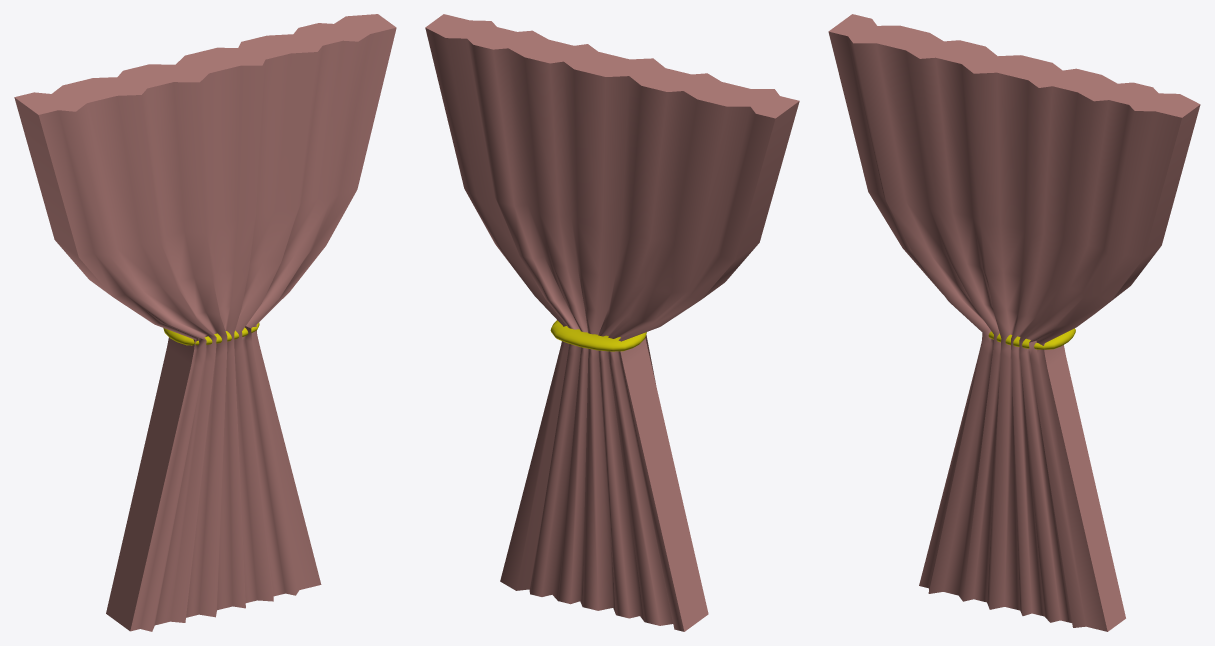
The model's file is curtain.fbx.
3 renders of one model, left to right at view 1: azimuth 30°, elevation 25°; view 2: azimuth 150°, elevation 25°; view 3: azimuth 330°, elevation 25°, orthographic.
Parts seen in each view (by area): view 1: polySurface2, pTorus1; view 2: polySurface2, pTorus1; view 3: polySurface2, pTorus1.
Boxes of the visible parts, box(x1,y1,x2,y2) form: polySurface2: box(14, 14, 396, 631); pTorus1: box(163, 322, 259, 345); polySurface2: box(425, 14, 799, 631); pTorus1: box(550, 320, 646, 351); polySurface2: box(828, 14, 1200, 631); pTorus1: box(988, 328, 1075, 349).
Size of the model in its own units: 2.24 by 3.22 by 0.4371.
